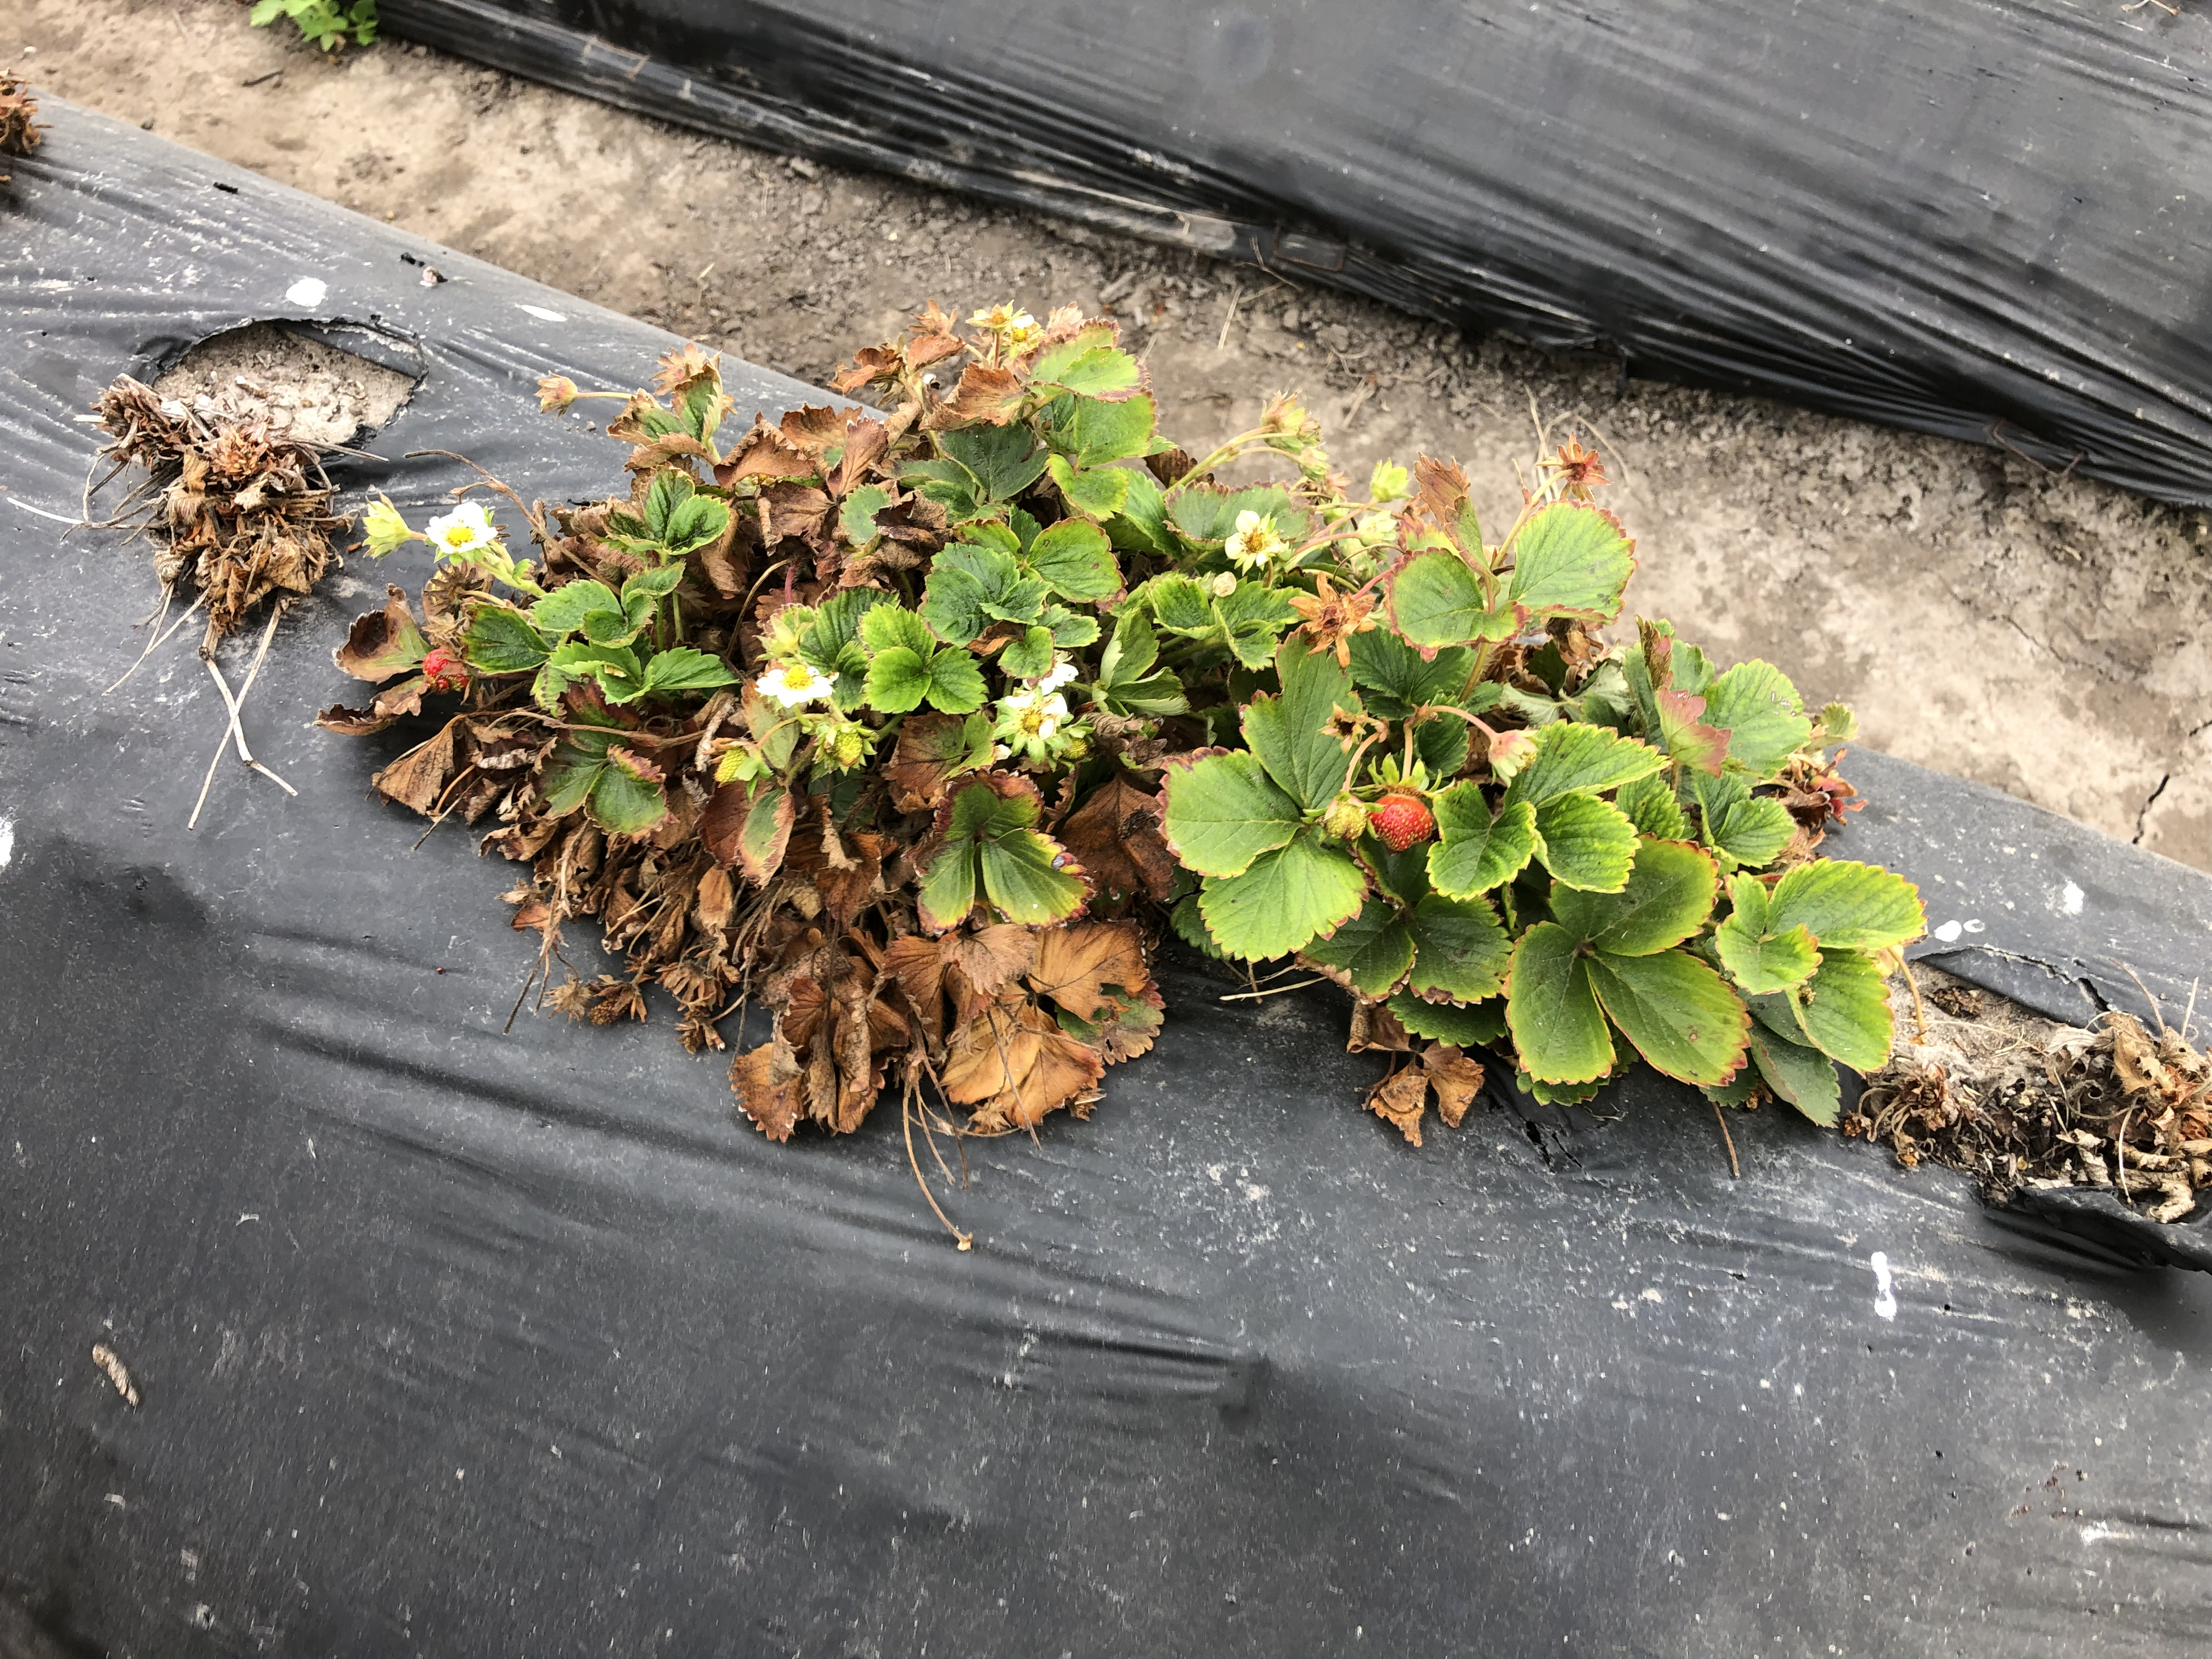ripe_strawberry: (1371, 770, 1435, 854), (420, 645, 474, 699)
unripe_strawberry: (705, 741, 773, 795), (817, 723, 876, 774), (1320, 793, 1371, 847), (1049, 720, 1099, 770)
